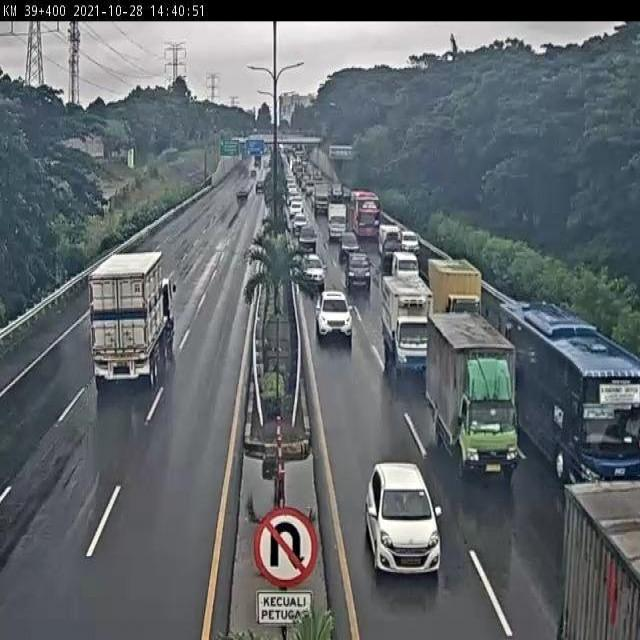big truck: (92, 248, 176, 391)
bus-l-: (499, 300, 640, 492)
car: (365, 461, 441, 576), (314, 288, 353, 336), (299, 248, 326, 287), (344, 250, 371, 286), (391, 249, 419, 280)
truck-m-: (426, 311, 516, 468), (380, 272, 432, 371), (427, 258, 483, 314)
